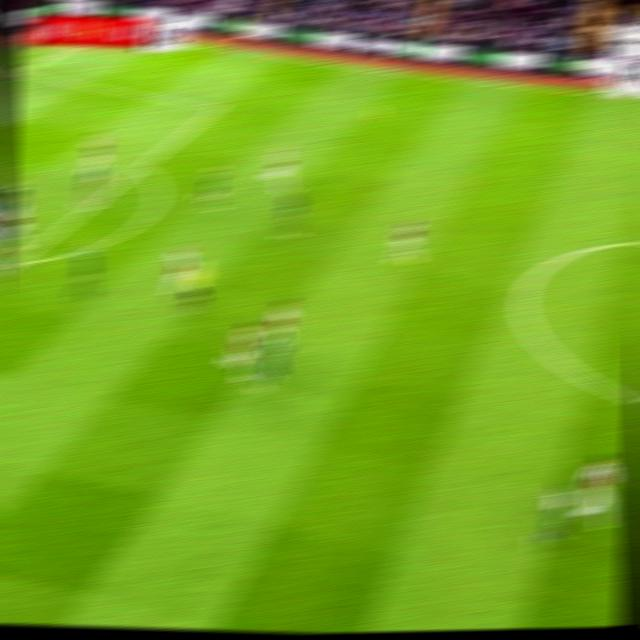bigarea_top_inner: (203, 97, 229, 118)
bigarea_top_outter: (7, 62, 34, 80)
bottom_arc_area_intersection: (6, 250, 32, 272)
corner: (62, 40, 86, 52)
top_arc_area_intersection: (128, 155, 152, 176)
